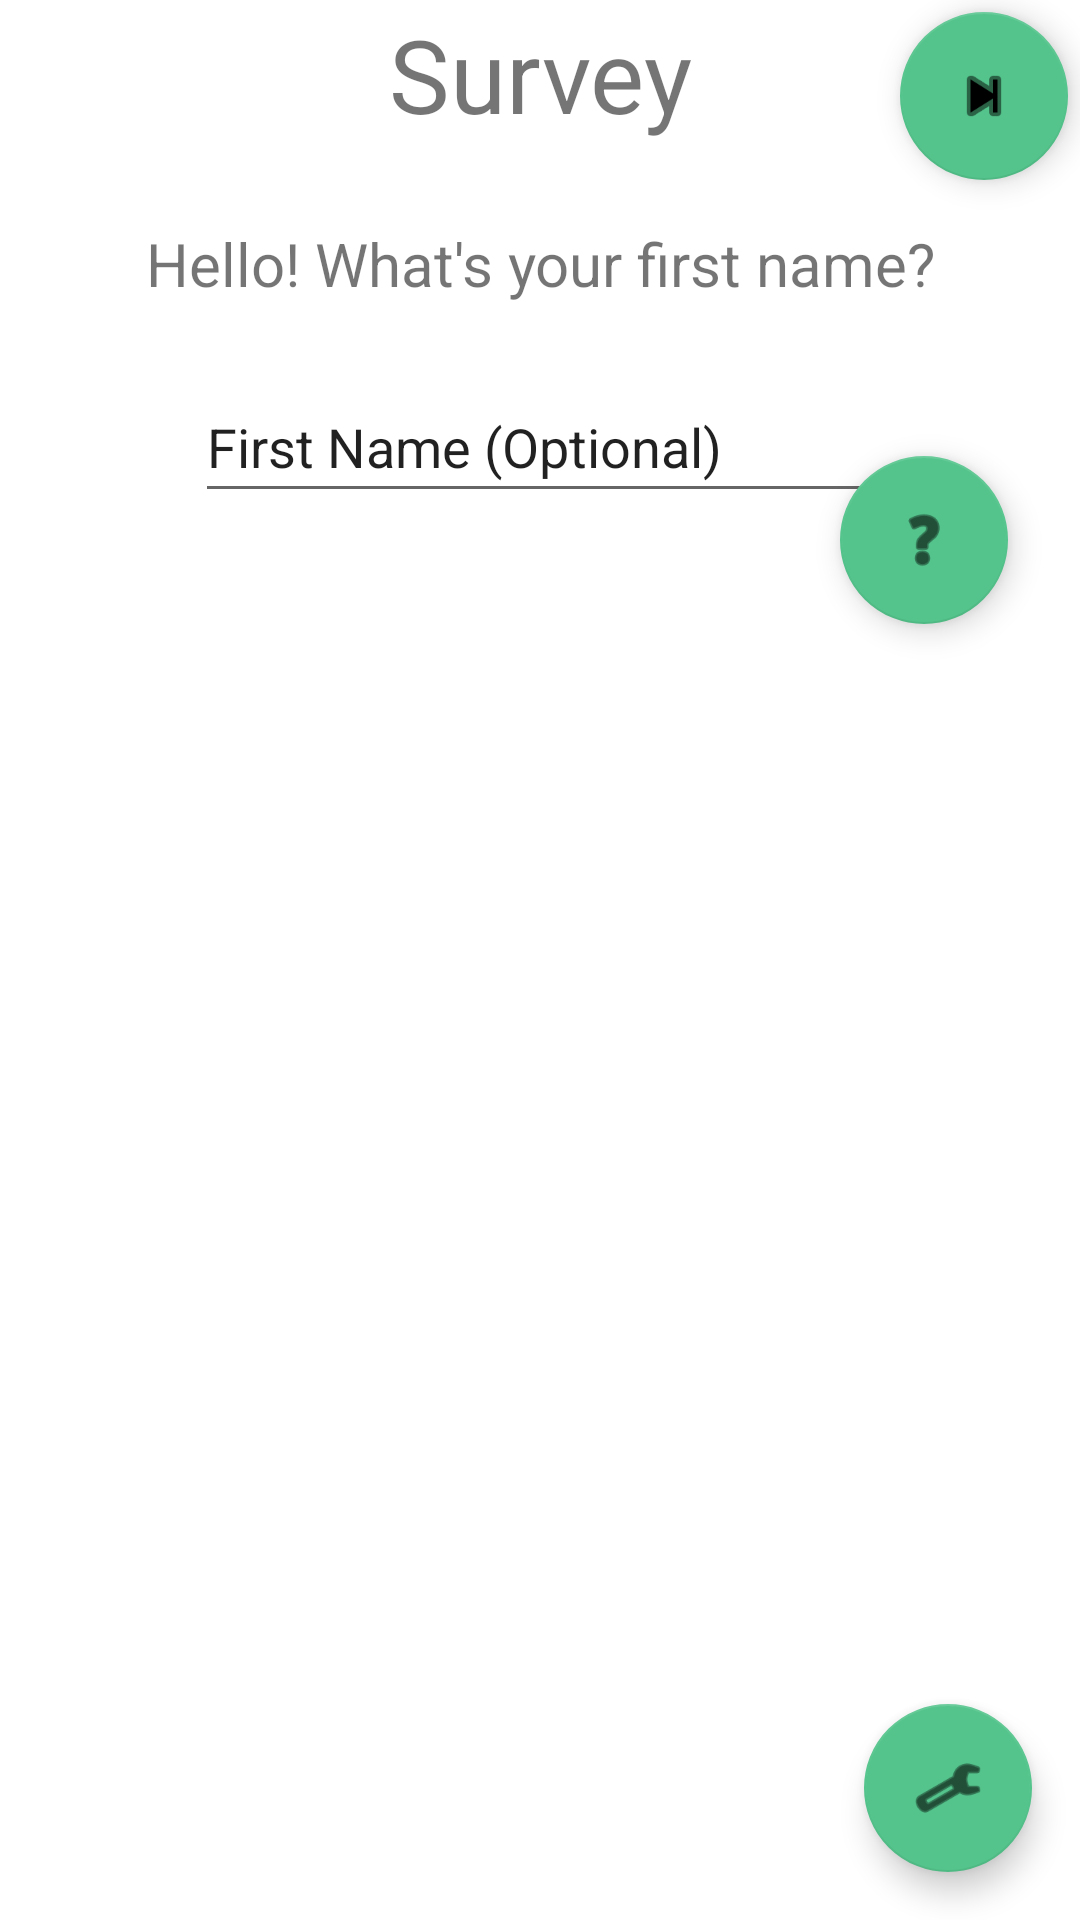

Screen size 1080 x 1920. Icon name, then its box in pixels as (x1, y1, x2, y2):
help: (840, 456, 1008, 624)
next: (900, 12, 1068, 180)
Settings: (864, 1704, 1032, 1872)
